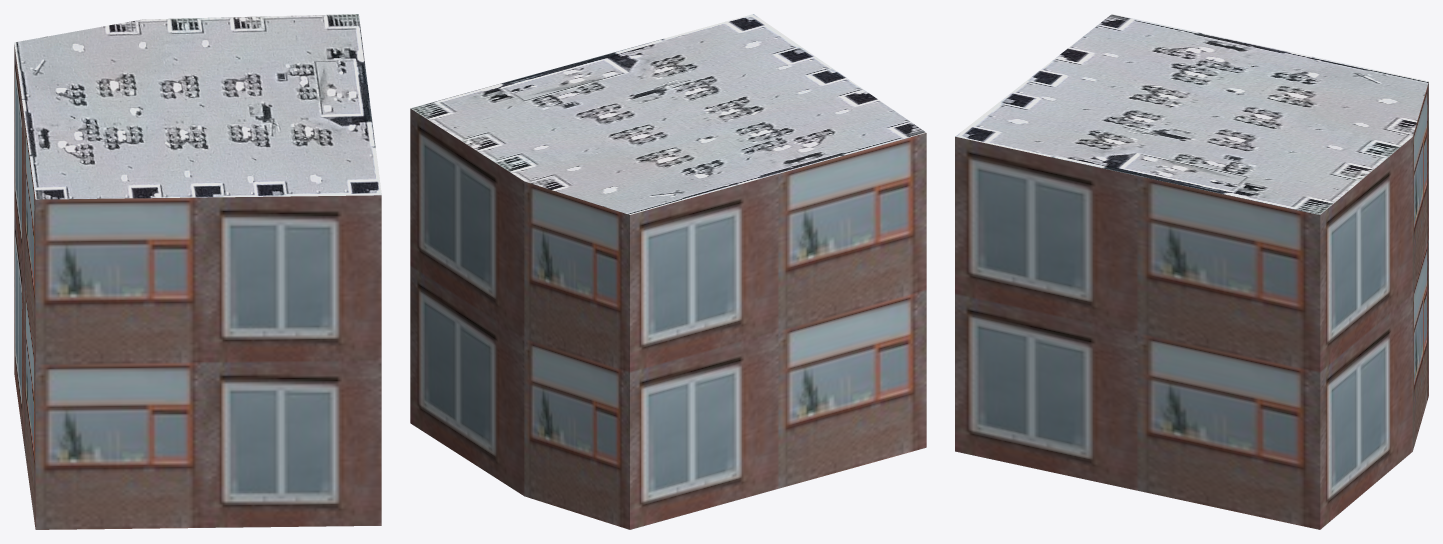
Rendered from ResTex__4219.fbx.
3 views of the same model, side by side, from view 1: azimuth 30°, elevation 25°; view 2: azimuth 150°, elevation 25°; view 3: azimuth 270°, elevation 25° (orthographic). The views are drawn at different scales.
Visible parts, largest first — view 1: CityEngineMaterial_19_m, CityEngineMaterial_15_m; view 2: CityEngineMaterial_19_m, CityEngineMaterial_15_m; view 3: CityEngineMaterial_19_m, CityEngineMaterial_15_m.
Part boxes in pixels (<box>): CityEngineMaterial_19_m: <box>14,45,381,529</box>; CityEngineMaterial_15_m: <box>14,14,381,199</box>; CityEngineMaterial_19_m: <box>410,108,926,529</box>; CityEngineMaterial_15_m: <box>410,14,926,214</box>; CityEngineMaterial_19_m: <box>955,82,1428,529</box>; CityEngineMaterial_15_m: <box>955,14,1428,214</box>.
Bounding box in the file's own units: 8.22 × 6 × 8.18.
2 materials, 2 textured.
